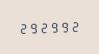nine: (27, 20, 36, 34), (58, 19, 67, 33), (48, 20, 57, 33)
two: (38, 20, 47, 34), (68, 19, 77, 33), (17, 21, 26, 34)
